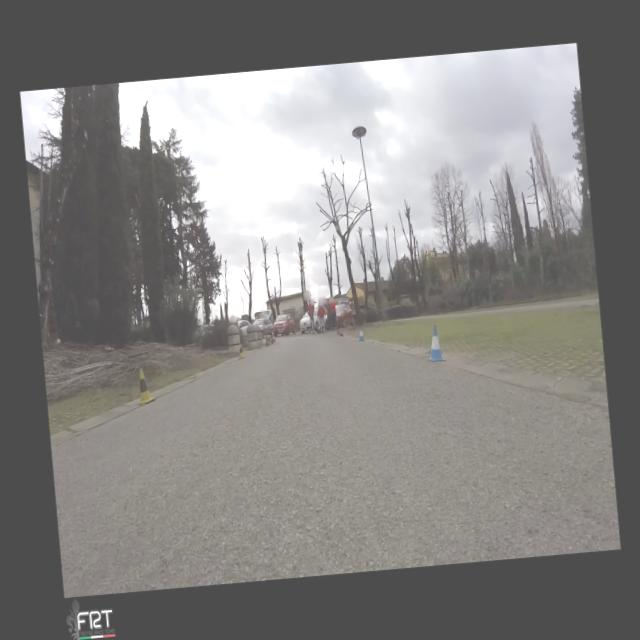blue_cone: (423, 324, 446, 362), (356, 326, 365, 341)
large_orange_cone: (264, 334, 268, 346), (339, 326, 343, 335), (272, 331, 275, 341)
unknown_cone: (270, 334, 274, 344), (336, 326, 338, 334)
yellow_cone: (134, 366, 155, 404), (237, 343, 246, 358)
